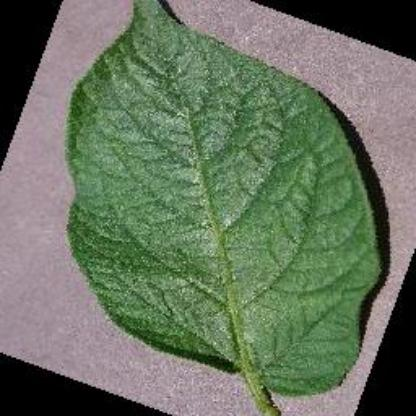Healthy-plant: (60, 0, 394, 416)
